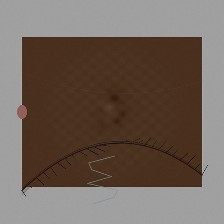foreign_body_visible: (150, 109, 178, 131)
